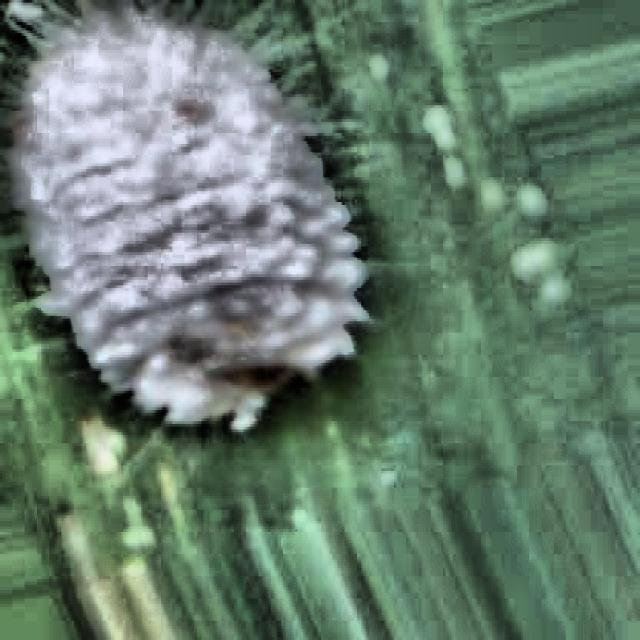Mealy-bug: (0, 3, 419, 548)
